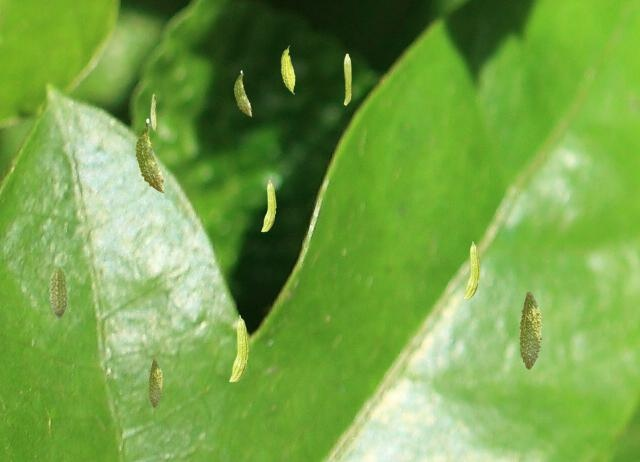ampalaya: (134, 118, 165, 193), (518, 291, 543, 370), (228, 314, 249, 382), (48, 266, 68, 319), (463, 241, 480, 299), (233, 70, 252, 116), (260, 179, 276, 232), (147, 358, 163, 408), (280, 45, 295, 94), (343, 53, 351, 105), (150, 93, 157, 131)
